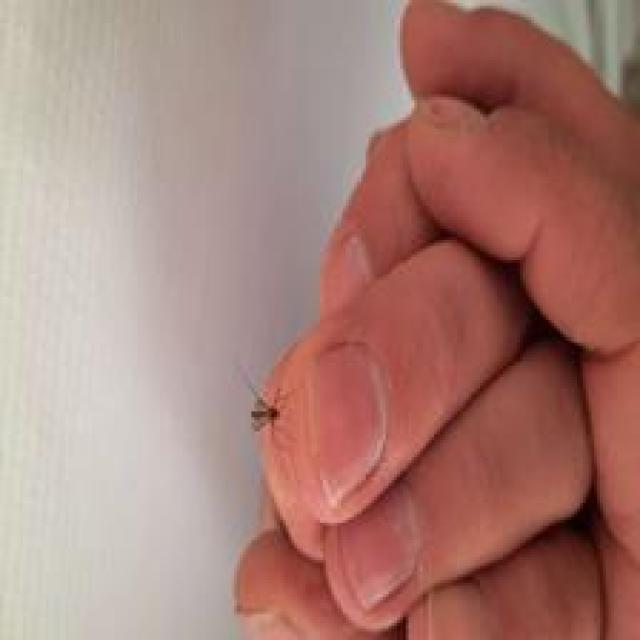Culex: (246, 380, 288, 434)
